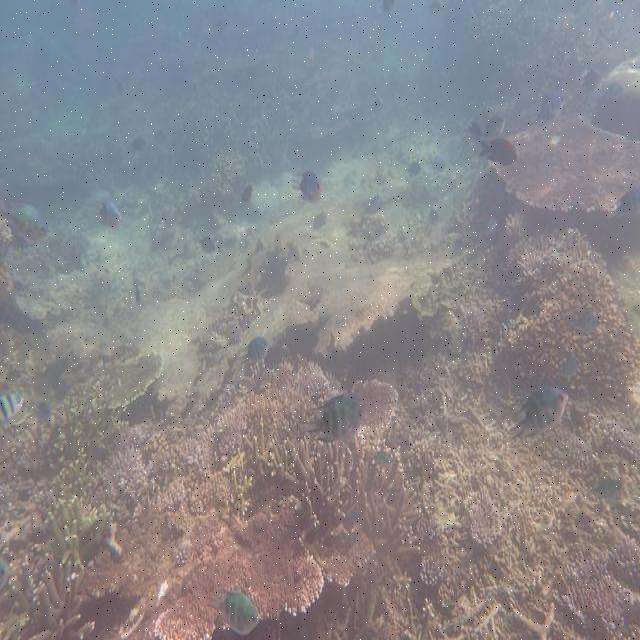aquatic plants: (8, 383, 122, 638), (230, 411, 422, 560)
fish: (506, 388, 568, 439), (307, 393, 364, 439), (210, 592, 259, 634), (291, 170, 322, 202), (481, 139, 517, 165), (1, 393, 24, 425)
reefs: (491, 114, 638, 212)
